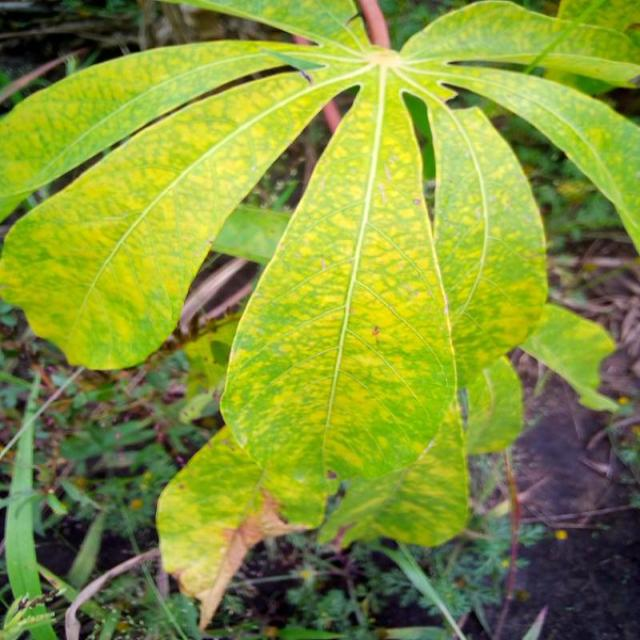cassava leaf: (0, 0, 639, 621), (218, 62, 470, 546), (0, 37, 354, 371)
